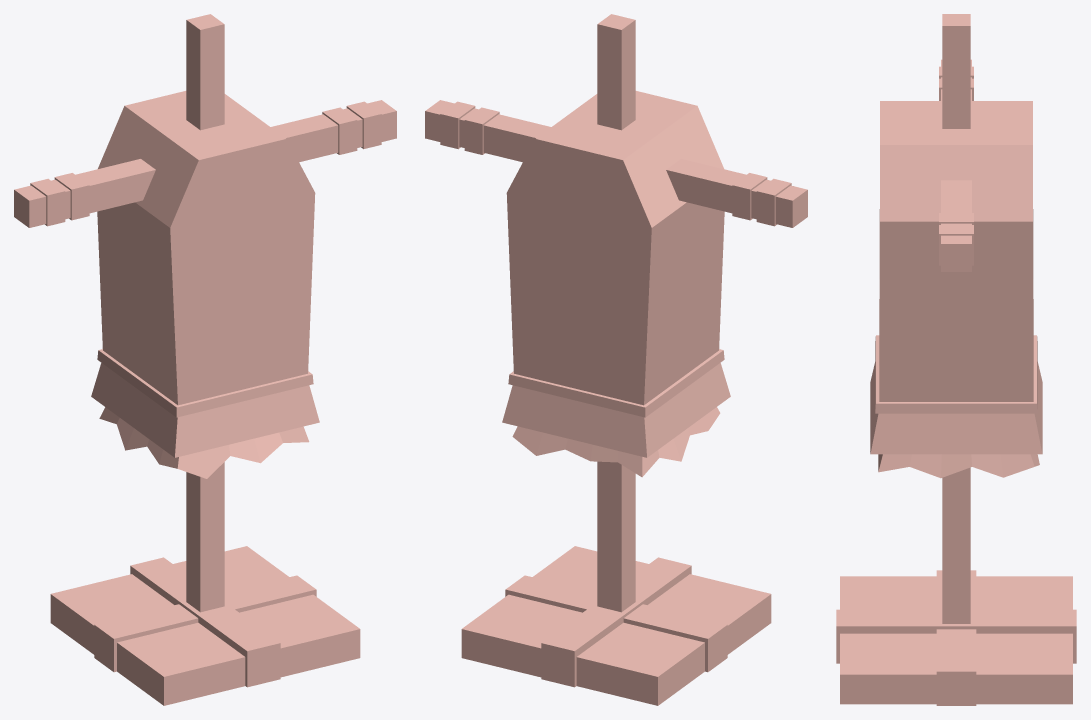
The model's file is Mega_Asset_s_Pack_Cube_026.FBX.
3 views of the same model, side by side, from view 1: azimuth 30°, elevation 25°; view 2: azimuth 150°, elevation 25°; view 3: azimuth 270°, elevation 25° (orthographic). The views are drawn at different scales.
Visible parts, largest first — view 1: Mega_Asset_s_Pack_Cube_026; view 2: Mega_Asset_s_Pack_Cube_026; view 3: Mega_Asset_s_Pack_Cube_026.
Part boxes in pixels (x1,y1,x2,y2): Mega_Asset_s_Pack_Cube_026: (14, 14, 396, 705); Mega_Asset_s_Pack_Cube_026: (425, 14, 807, 705); Mega_Asset_s_Pack_Cube_026: (836, 14, 1076, 705).
Size of what is drawn, in the model's own units: 172 by 94.71 by 276.
